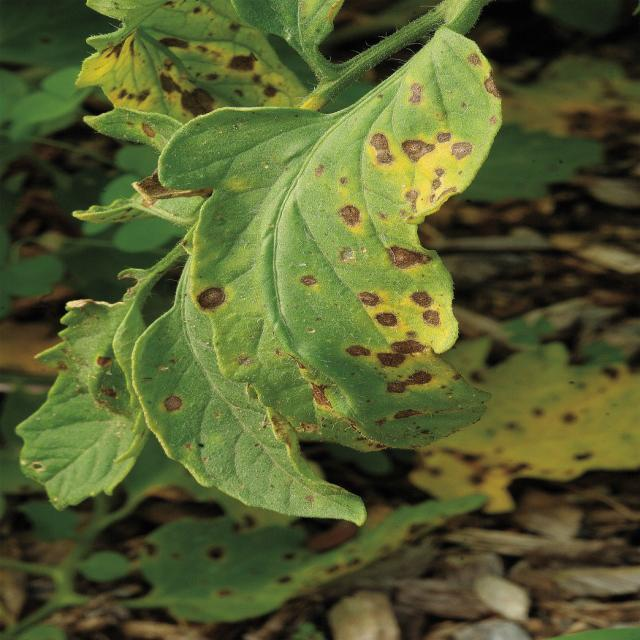Septoria: (334, 75, 489, 430), (176, 274, 312, 324)
